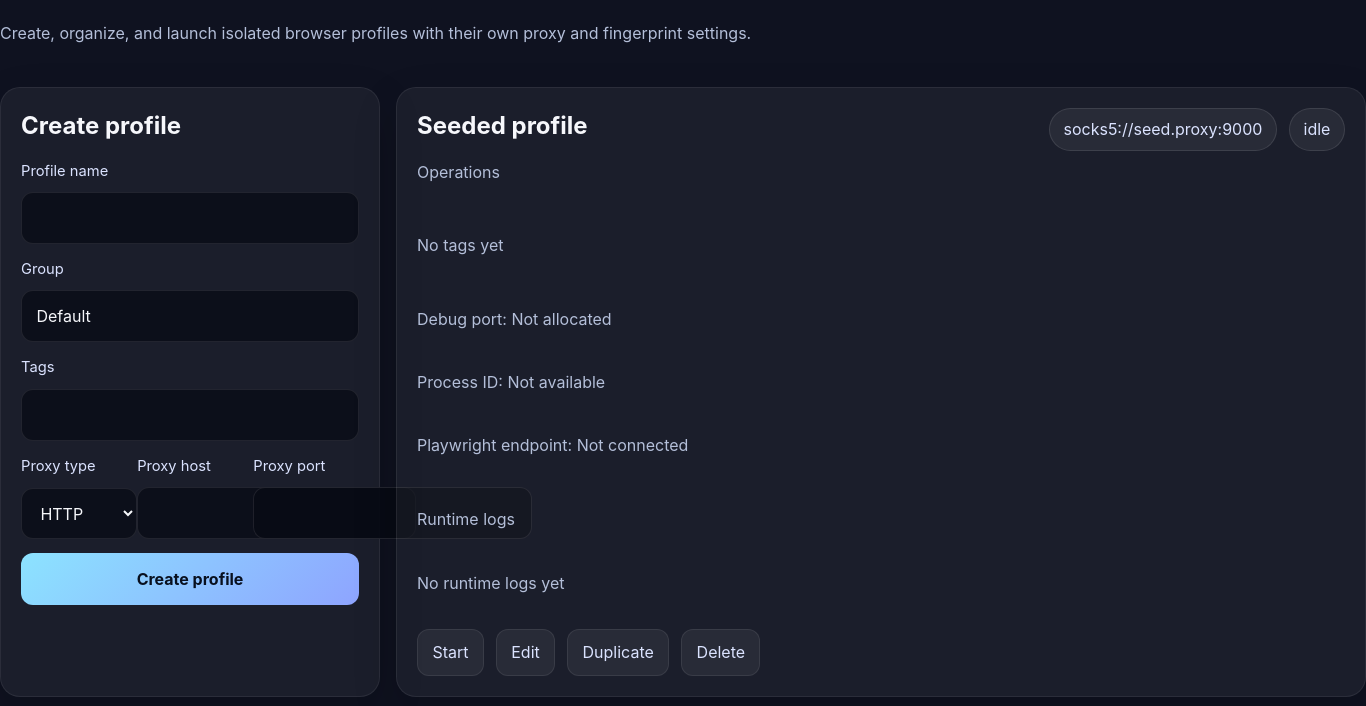
Test: ProfilesPage › hydrates persisted profiles and supports edit, duplicate, and delete
The width and height of the screenshot is (1366, 706).
expect the heading "Seeded profile" is shown: met, box [417,108,588,144]
expect the text "socks5://seed.proxy:9000" is shown: met, box [1049,108,1277,151]
Click the button with aria-label "duplicate seeded profile".
click(618, 652)  # box [567,629,669,676]
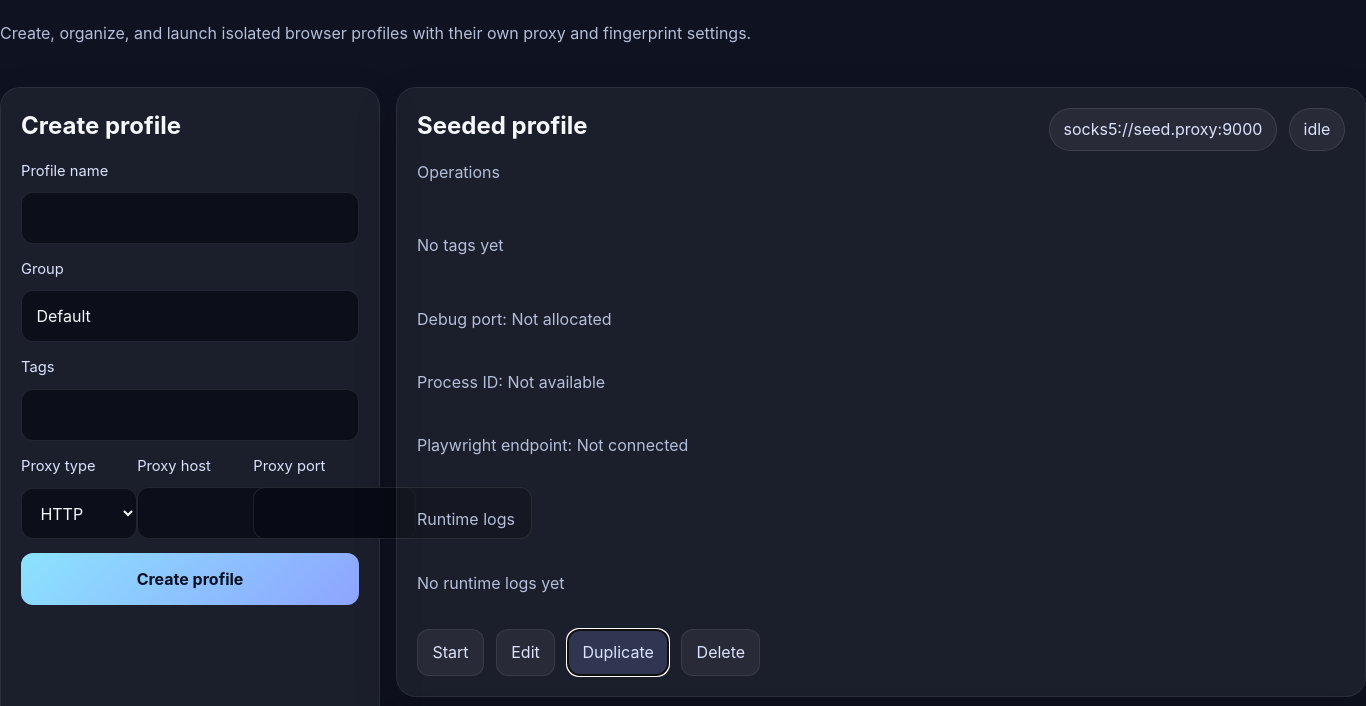
Click the button with aria-label "Edit Seeded profile".
click(526, 652)  # box [496,629,555,676]
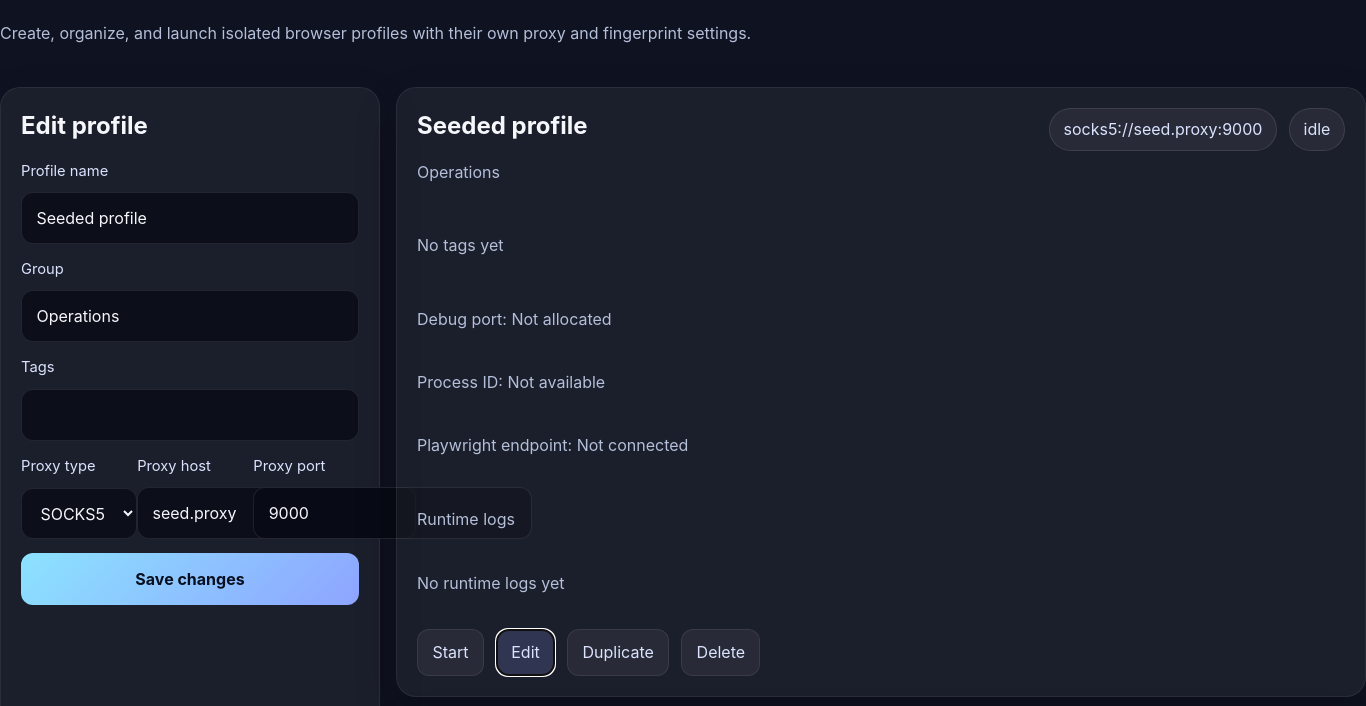
Replace the text in the field labelled "Proxy host" with "proxy.example.com" at (276, 513), box [137,487,416,539]
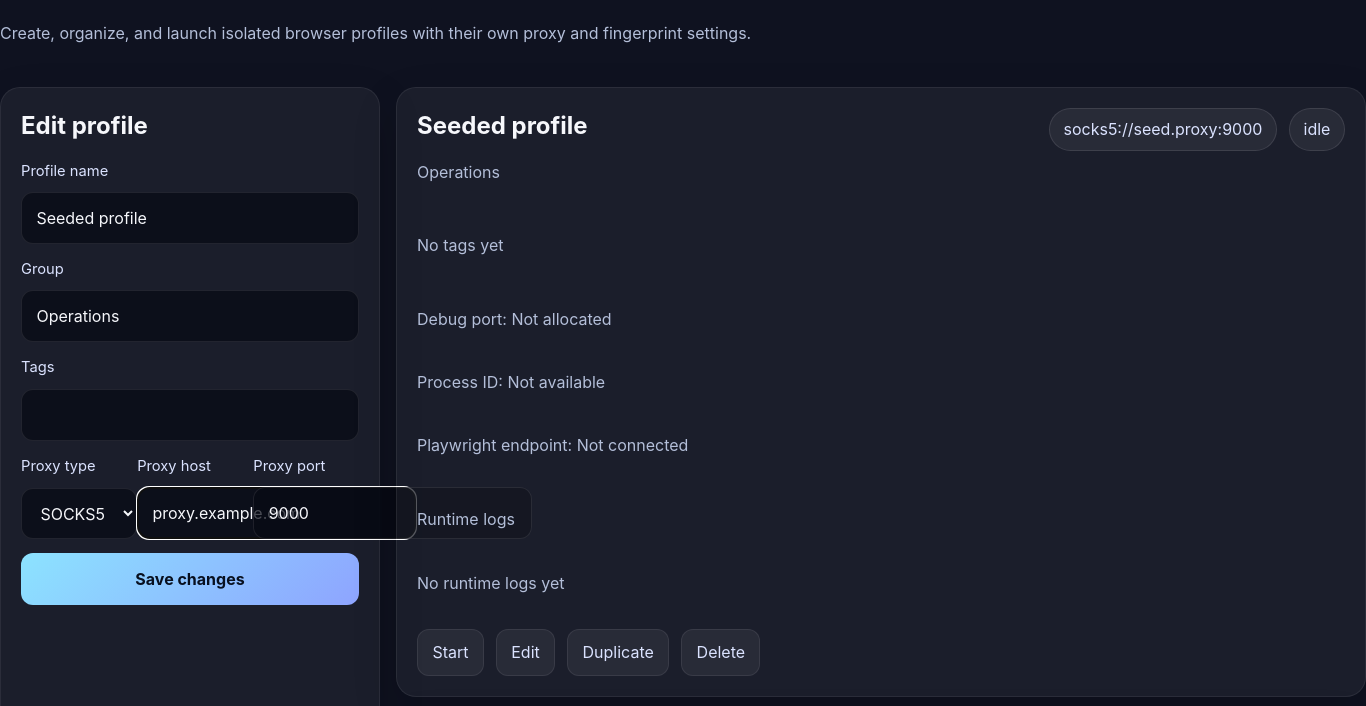
Click the button "Save changes".
click(190, 579)  # box [21,553,359,604]
(page scrolled)
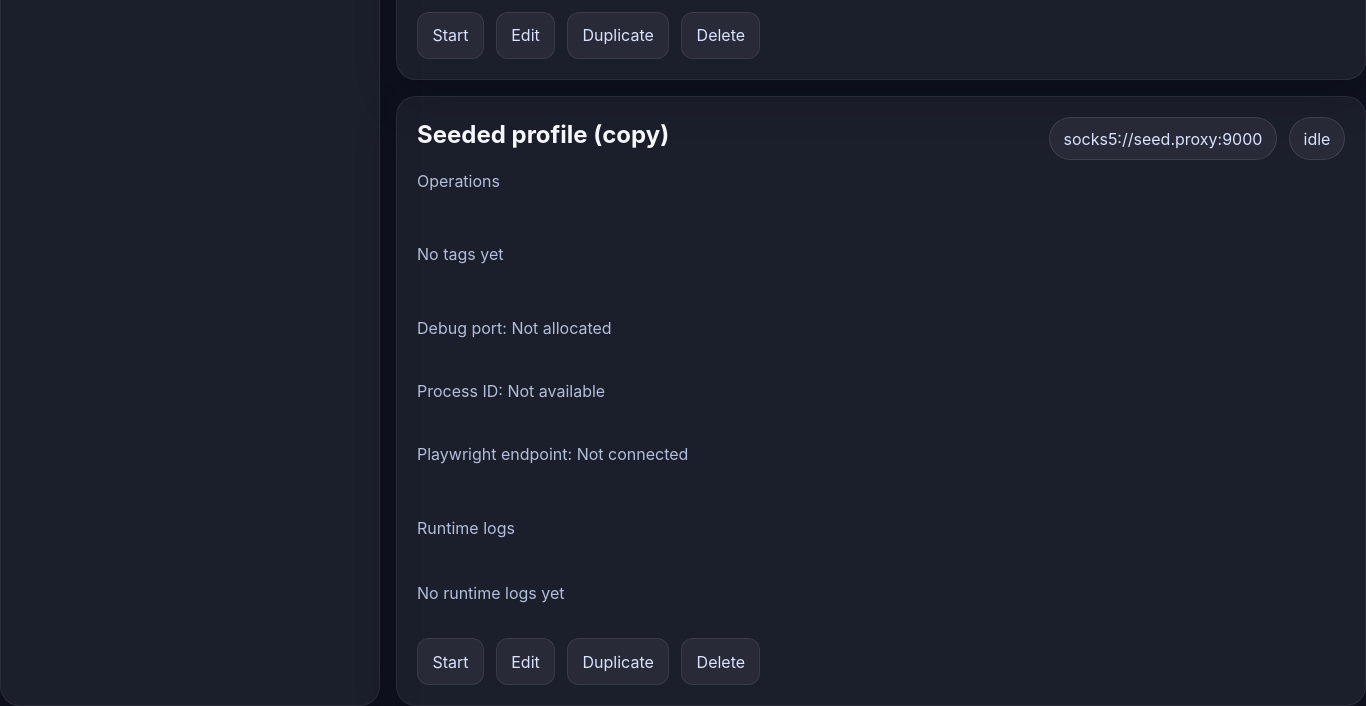
Click the button with aria-label "delete seeded profile (copy)".
click(721, 662)  # box [681,638,760,685]
(page scrolled)
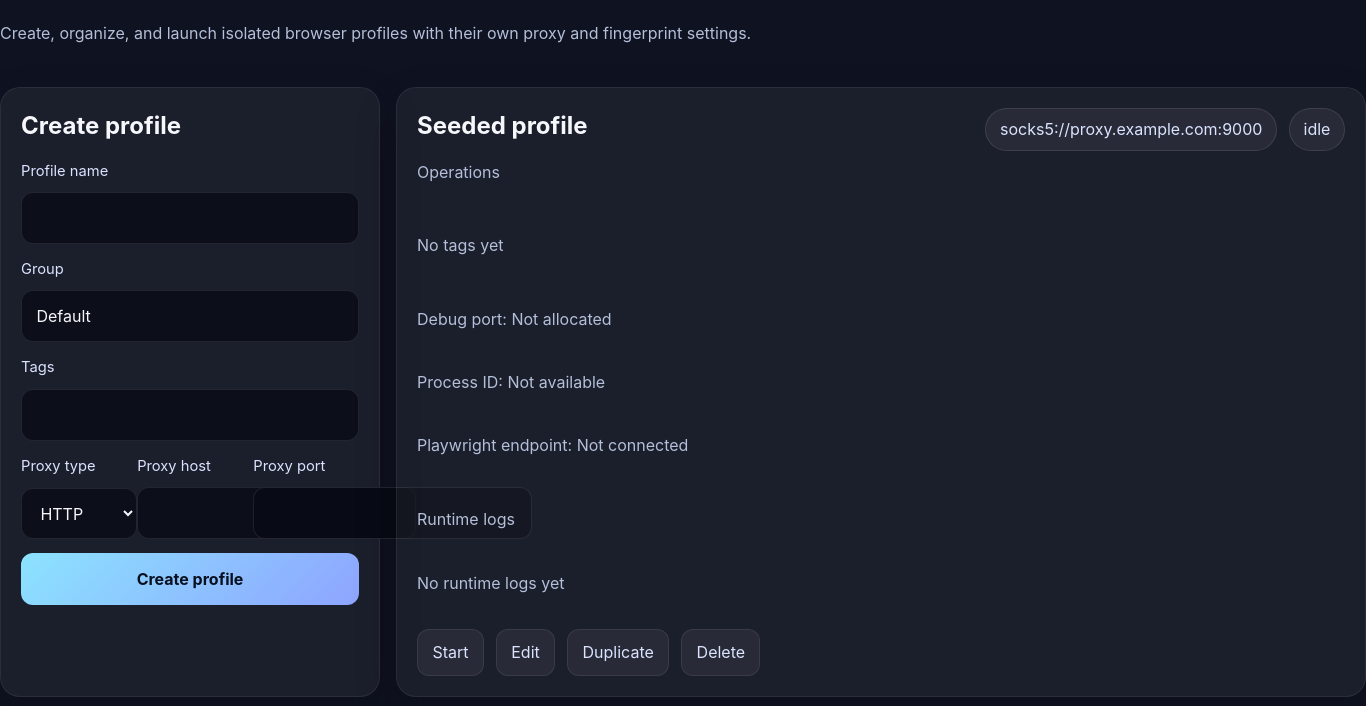
expect the heading "Seeded profile (copy)" is gone: met
